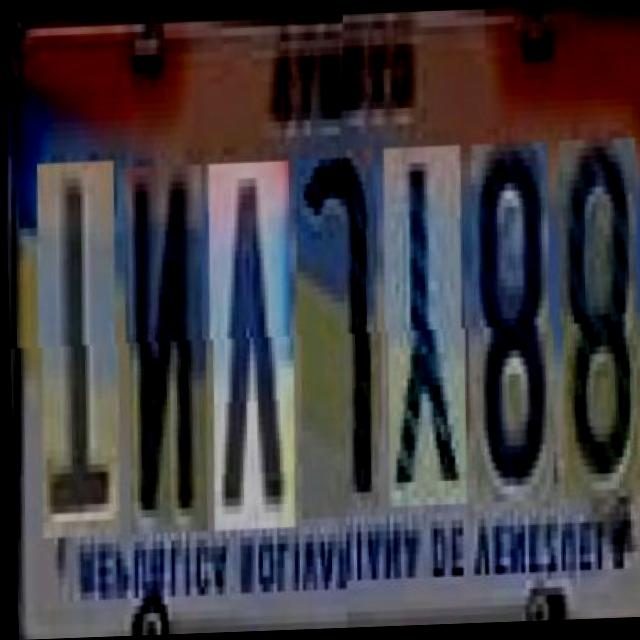8: (464, 147, 557, 508), (552, 144, 640, 505)
j: (290, 153, 381, 513)
n: (119, 159, 210, 528)
t: (30, 154, 122, 531)
v: (202, 155, 298, 525)
y: (378, 149, 468, 510)
